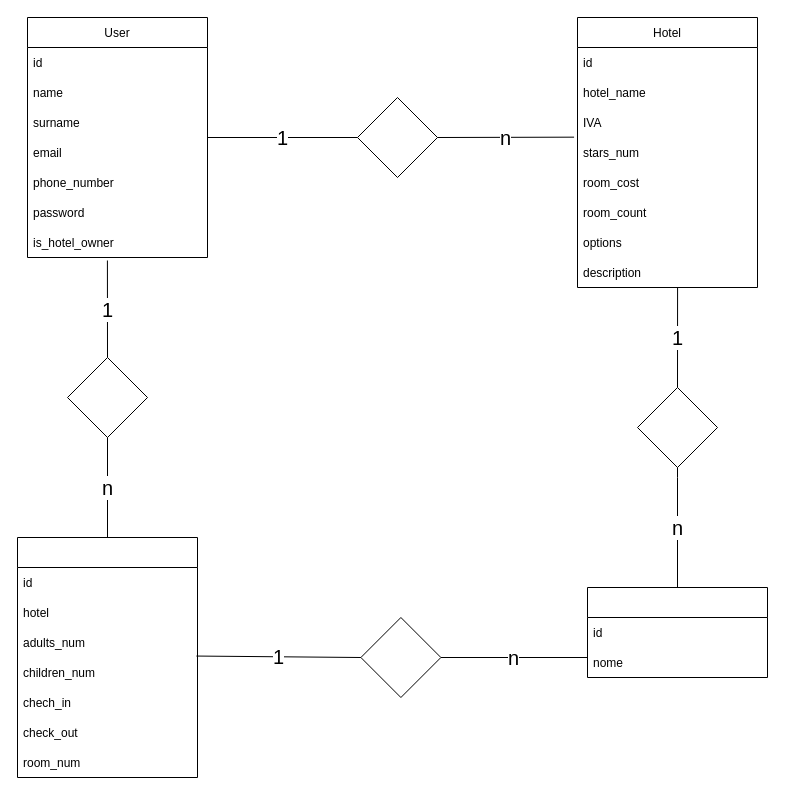
Some shapes in this 785 by 795 pixel diagram are drawn without their labels. Each missing label, with the box of its shape:
Camera: (586, 586, 768, 678)
Prenotazione: (16, 536, 198, 778)
